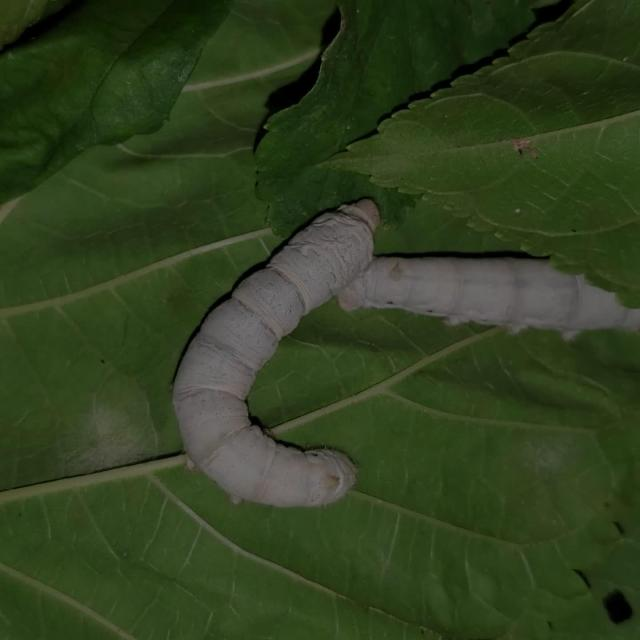Healthy: (141, 171, 640, 561)
